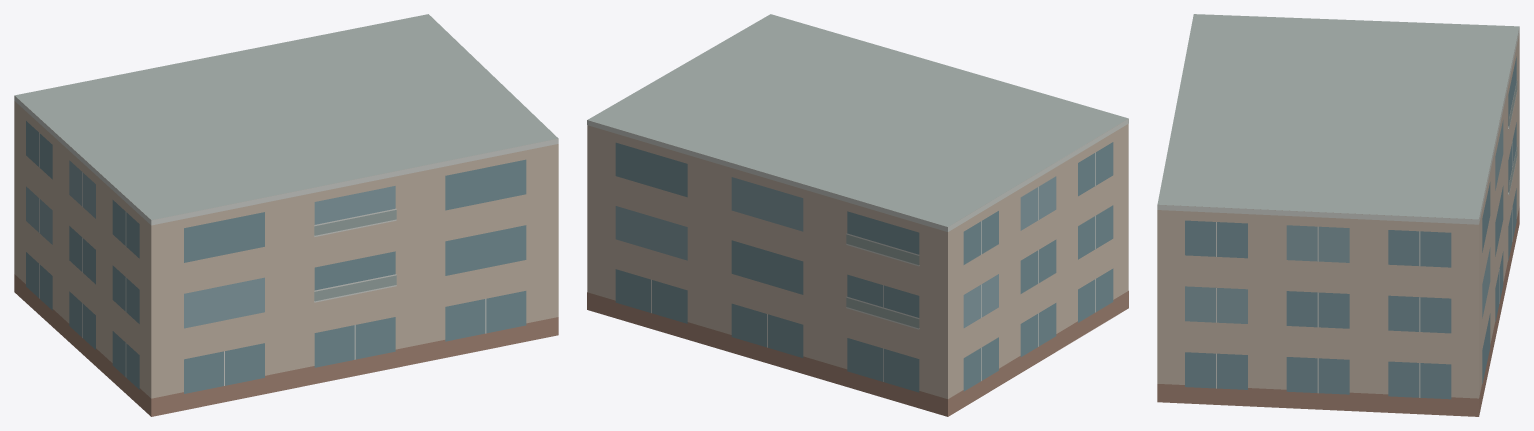
The model's file is survey-upis-32763588.glb.
3 renders of one model, left to right at view 1: azimuth 30°, elevation 25°; view 2: azimuth 150°, elevation 25°; view 3: azimuth 270°, elevation 25°, orthographic. The views are drawn at different scales.
Visible parts, largest first — view 1: survey-upis-32763588.tmp; view 2: survey-upis-32763588.tmp; view 3: survey-upis-32763588.tmp.
Boxes of the visible parts, x1,y1,x2,y2 form: survey-upis-32763588.tmp: [14, 14, 558, 416]; survey-upis-32763588.tmp: [587, 14, 1128, 416]; survey-upis-32763588.tmp: [1157, 14, 1519, 416].
Size of the model in its own units: 20.42 by 9.15 by 15.22.
